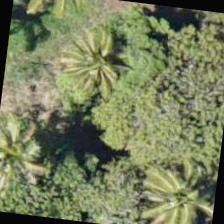Kelapa_Sawit: (44, 16, 144, 116), (0, 98, 69, 197), (135, 152, 219, 223)
